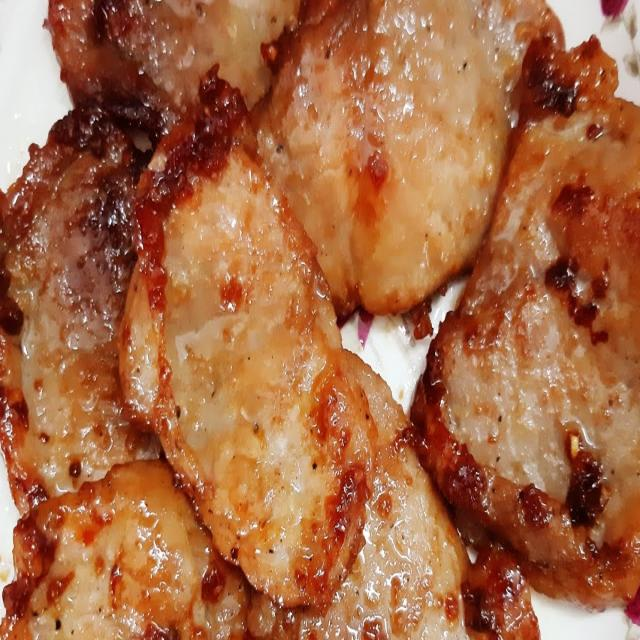thit chien: (410, 40, 640, 614), (120, 148, 406, 604), (260, 0, 546, 313), (8, 113, 136, 493)
